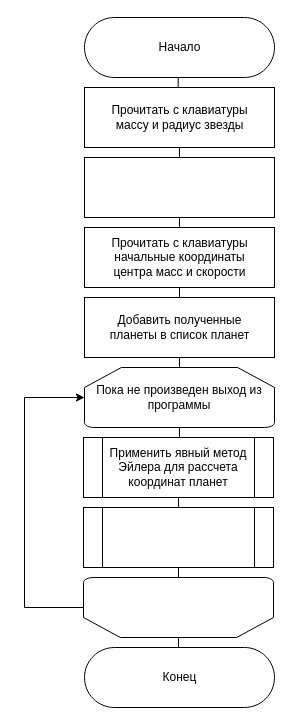
This 292x725 diagram has some shape labels left out. The shapes that lost their labels are listed below. From the top down, each one's centre as x and y in pixels, then its label:
At pixel 179 187: "Прочитать с клавиатуры тип планет".
At pixel 178 537: "Применить модифицированный Z-буфер для отрисовки изображения".
At pixel 178 607: "увеличить физическое время на dt".
